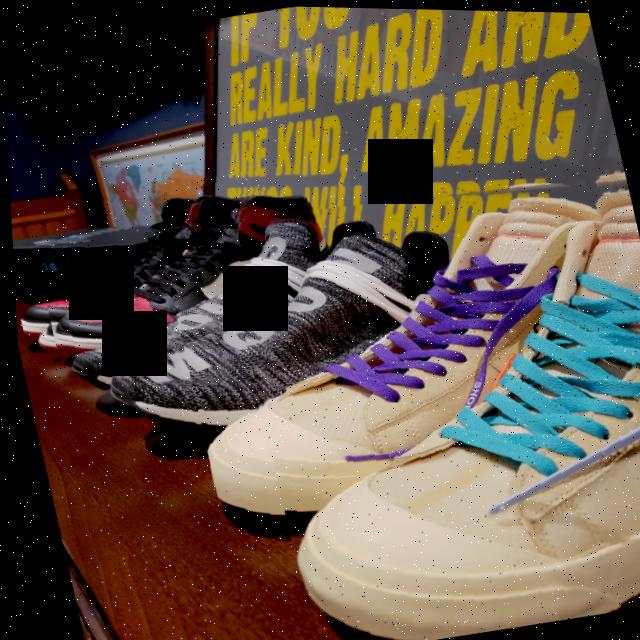shoe: (213, 151, 640, 640), (150, 148, 640, 558), (26, 171, 498, 481), (6, 157, 331, 371)
